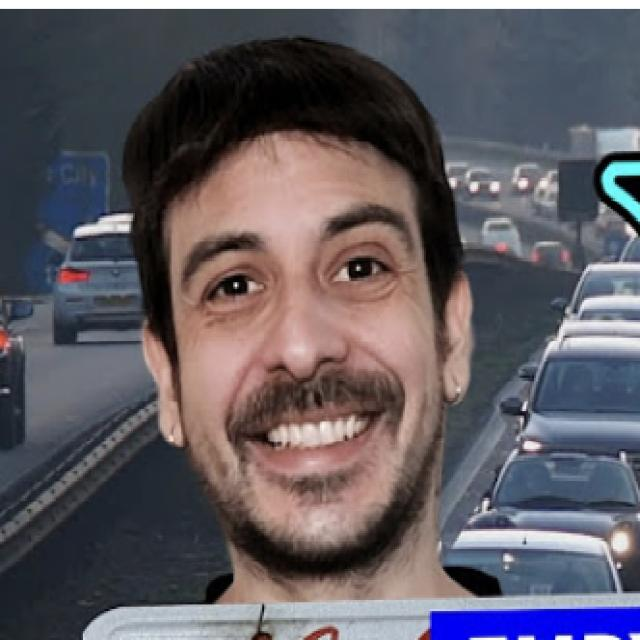happy: (68, 45, 494, 569)
